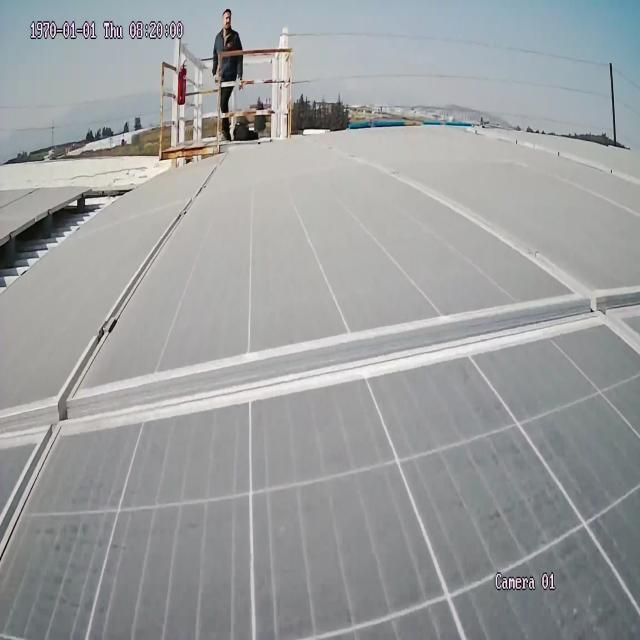interior panel: (0, 155, 637, 555)
outher panel: (0, 192, 118, 300)
